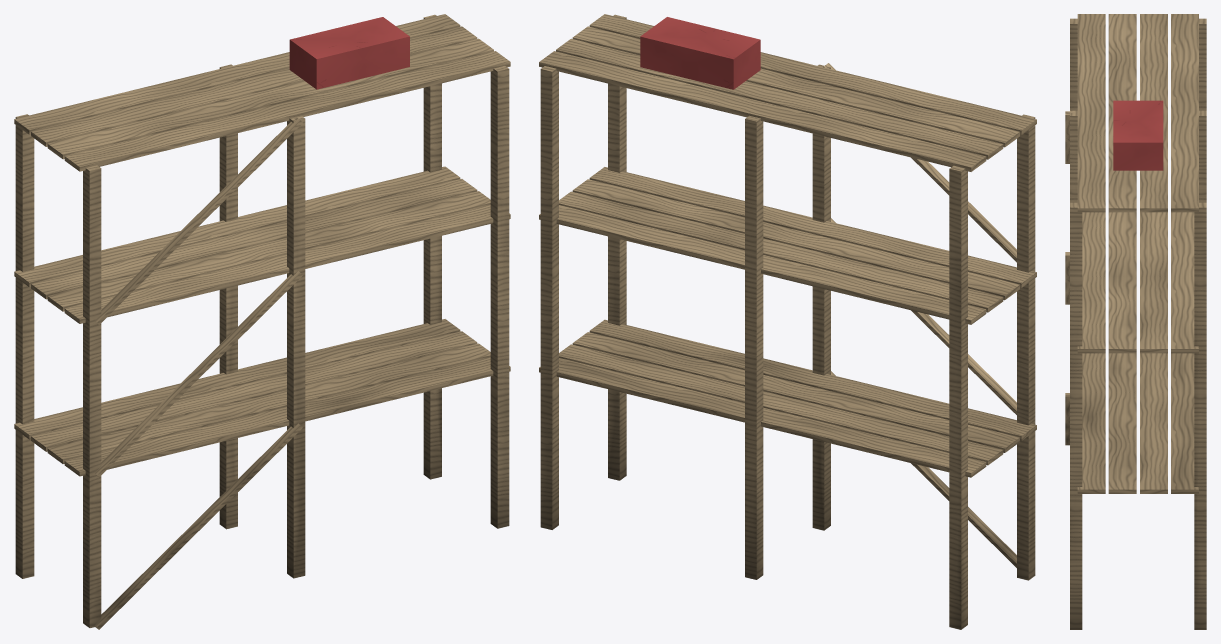
Rendered from scaffolding.glb.
3 views of the same model, side by side, from view 1: azimuth 30°, elevation 25°; view 2: azimuth 150°, elevation 25°; view 3: azimuth 270°, elevation 25° (orthographic). The views are drawn at different scales.
Visible parts, largest first — view 1: scaffolding; view 2: scaffolding; view 3: scaffolding.
Part boxes in pixels (x1=…): scaffolding: x1=14, y1=14, x2=510, y2=629; scaffolding: x1=539, y1=14, x2=1036, y2=629; scaffolding: x1=1065, y1=14, x2=1206, y2=629.
Size of the model in its own units: 14.8 by 16.15 by 4.55.
2 materials, 2 textured.
